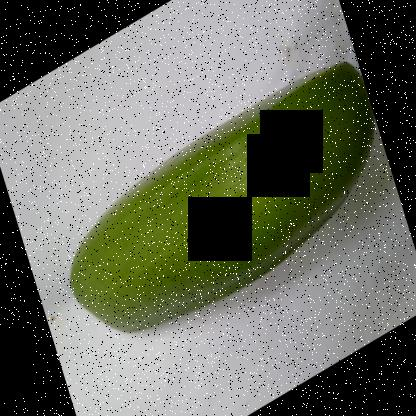freshunripe: (56, 54, 380, 350)
